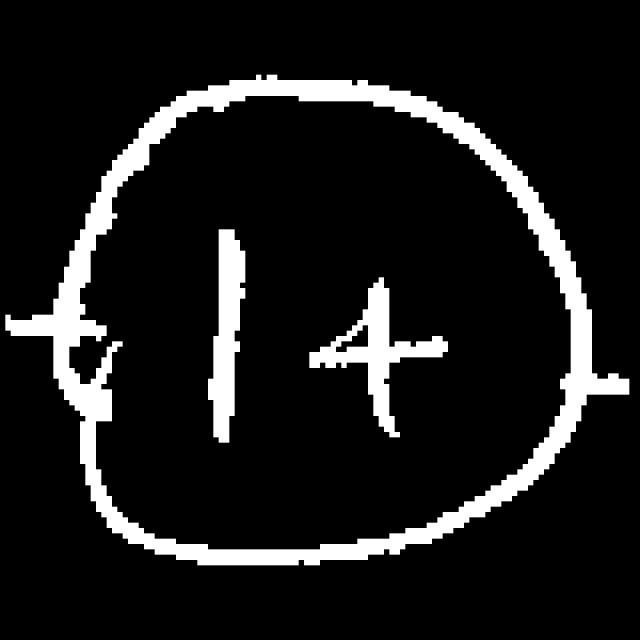voltage_source: (50, 54, 594, 582)
